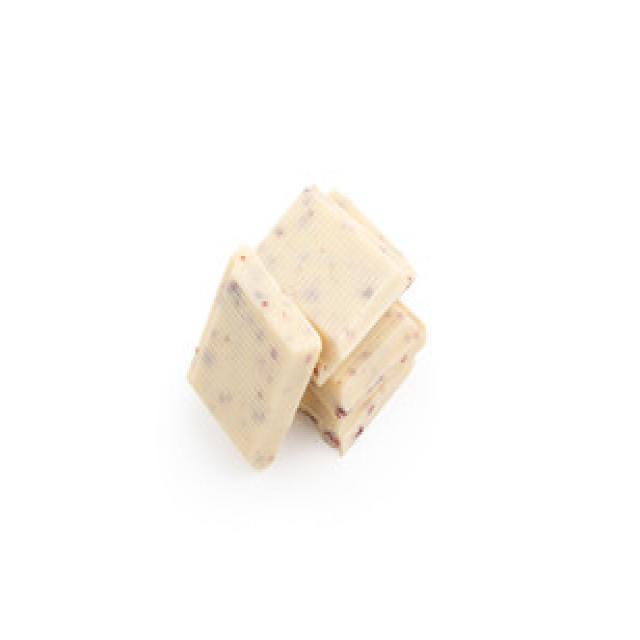Chocolate: (186, 177, 428, 471)
